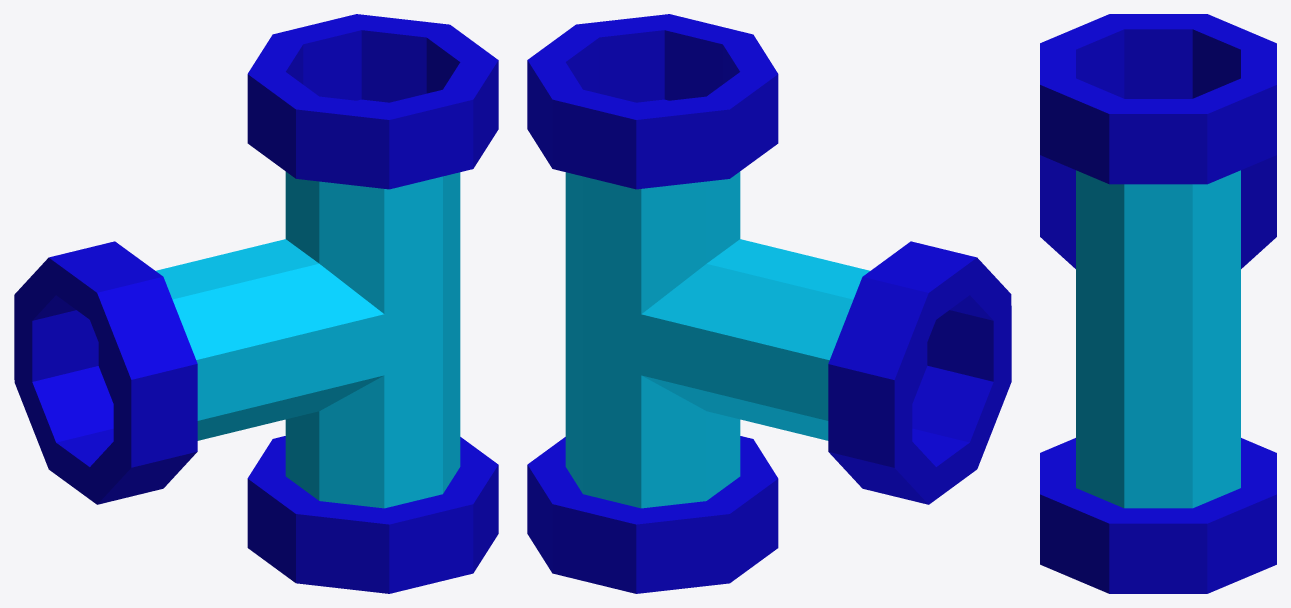
File: pipes 10.0.fbx
3 views of the same model, side by side, from view 1: azimuth 30°, elevation 25°; view 2: azimuth 150°, elevation 25°; view 3: azimuth 270°, elevation 25° (orthographic).
Parts seen in each view (by area): view 1: pipe 3; view 2: pipe 3; view 3: pipe 3.
Boxes of the visible parts, x1,y1,x2,y2 form: pipe 3: (14, 14, 498, 593); pipe 3: (527, 14, 1011, 593); pipe 3: (1040, 14, 1276, 593).
Size of the model in its own units: 67.89 by 76.59 by 34.27.
